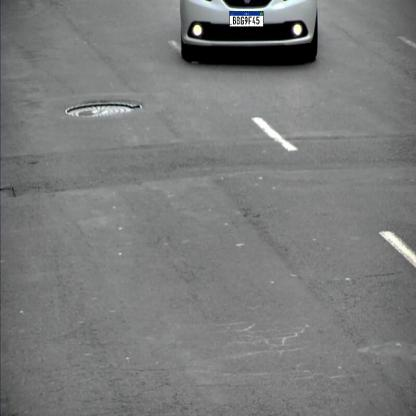PlacaM: (229, 11, 264, 27)
